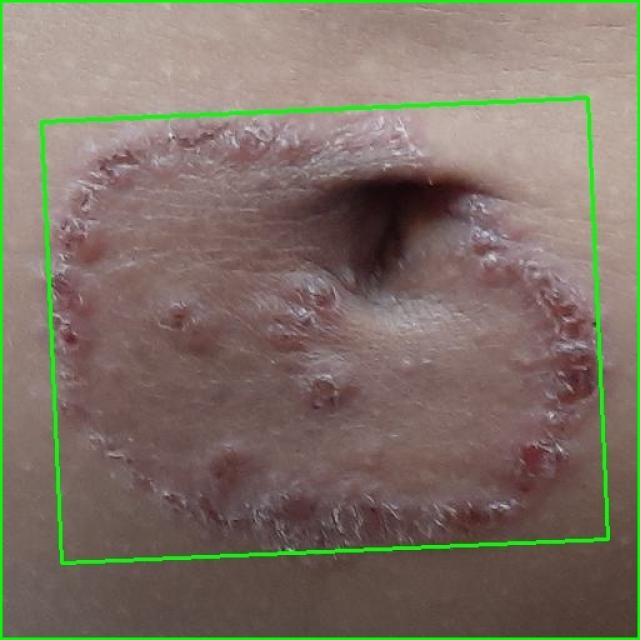Tinea Corporis: (0, 0, 639, 639), (41, 98, 608, 564)
